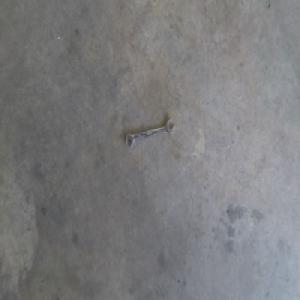Wrench: (123, 119, 175, 151)
